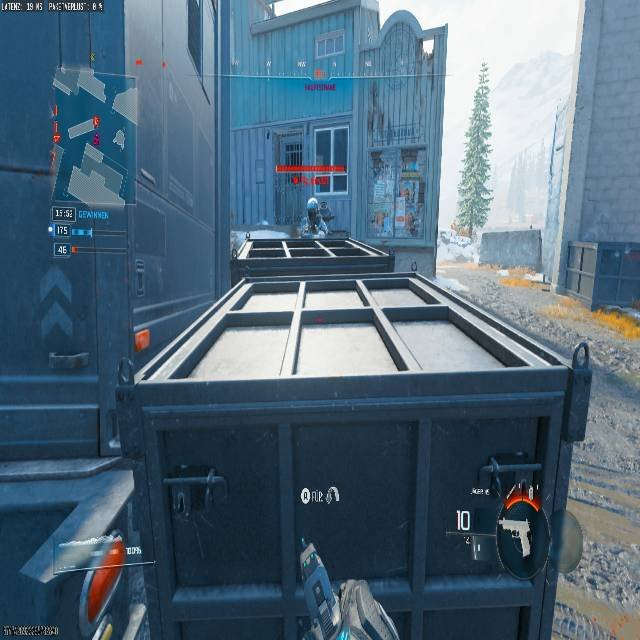head: (307, 196, 317, 208)
player: (302, 195, 332, 238)
